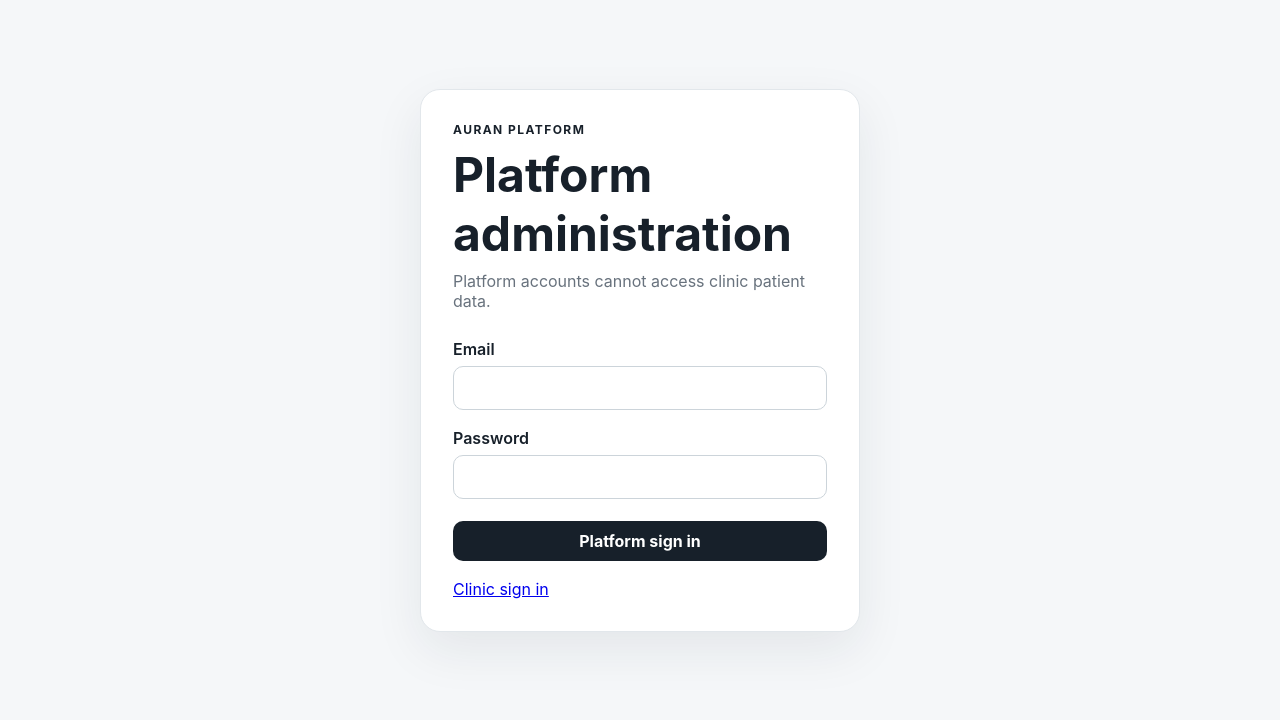
Test: Platform actor UI boundary › fails closed and clears clinic list when platform refresh fails
The width and height of the screenshot is (1280, 720).
Type "admin@example.com" into the field labelled "Email" at (640,388), box [453, 366, 827, 410]
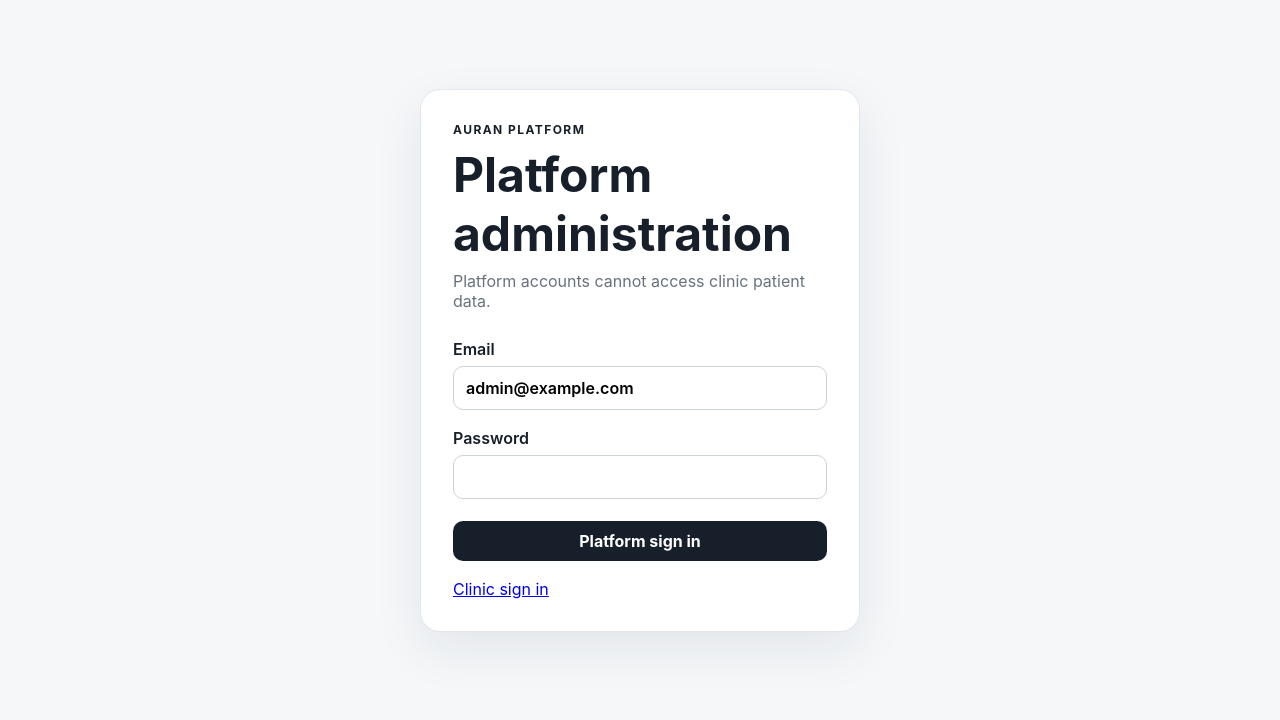
Type "Password123!" into the password field labelled "Password" at (640,476), box [453, 454, 827, 498]
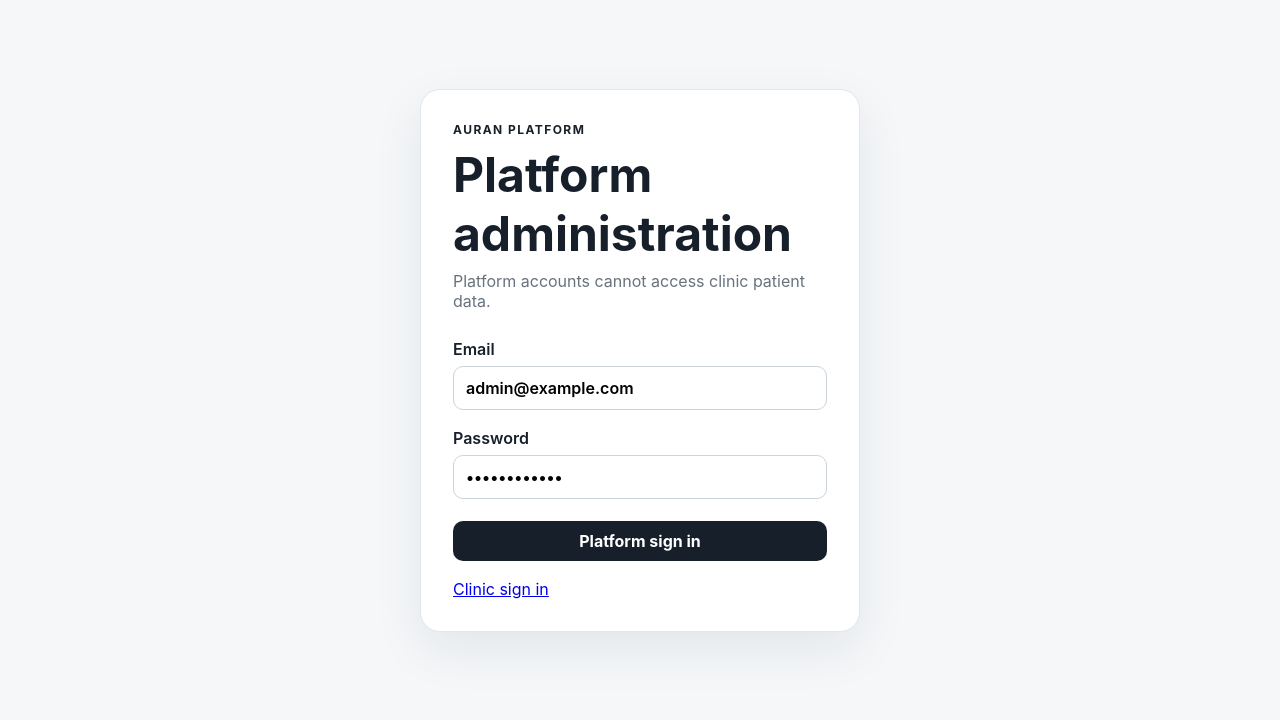
Click the button "Platform sign in" at (640,540), box [453, 520, 827, 560]
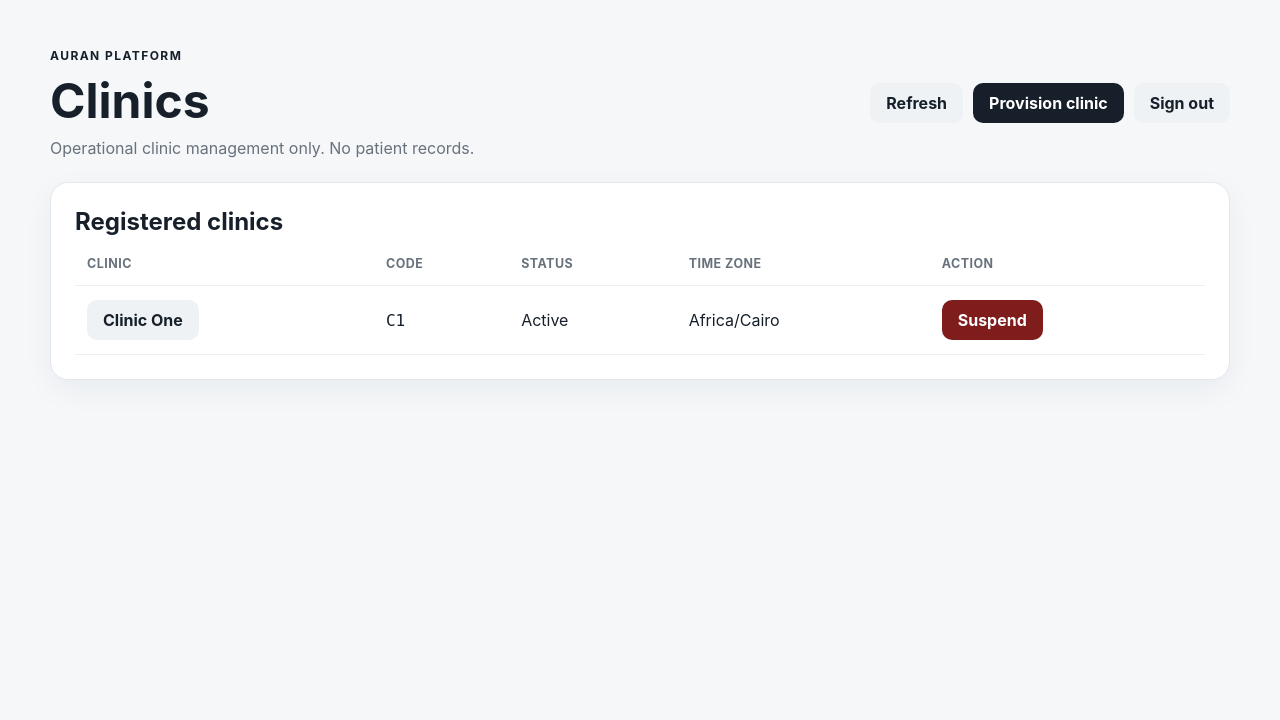
Click the button "Clinic One" at (143,320), box [87, 300, 199, 340]
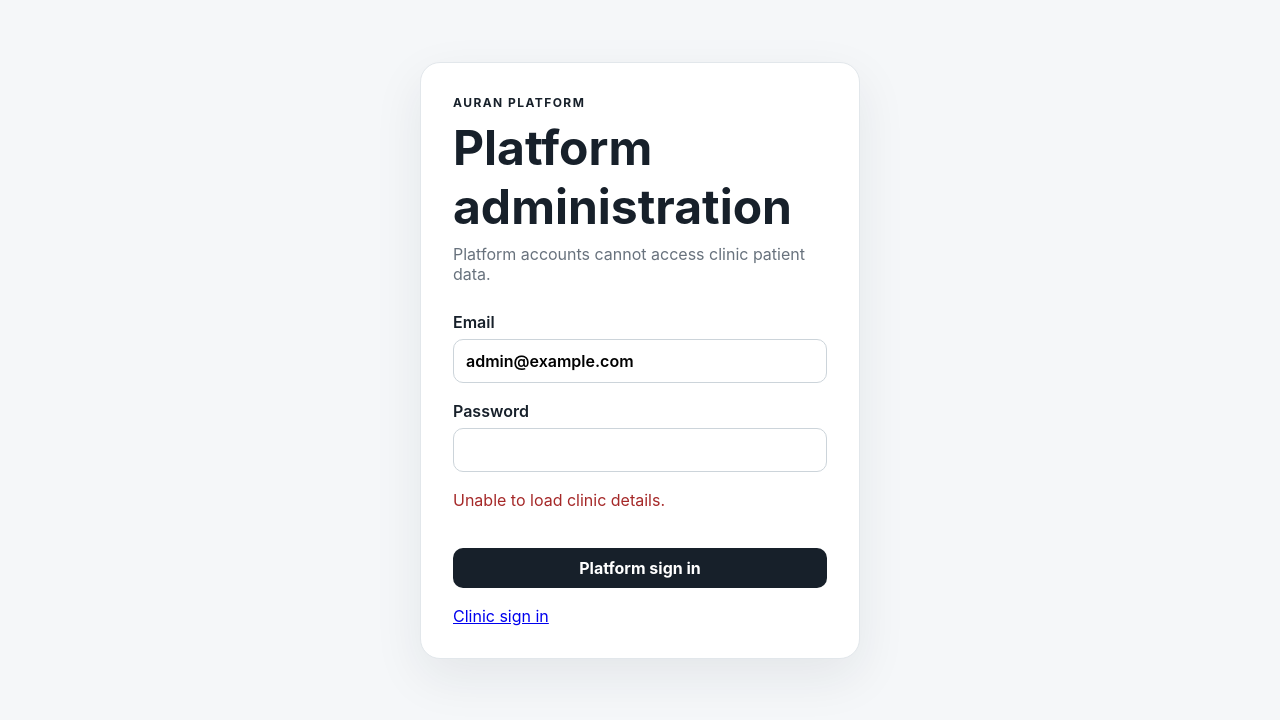
Result: the heading "Platform administration" is shown at [453, 118, 827, 236]
Result: the button "Clinic One" is gone
